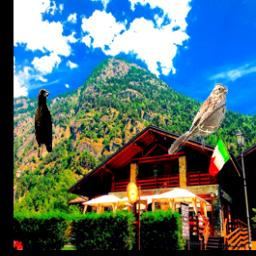Crow: (35, 90, 53, 159)
Sparrow: (168, 84, 228, 155)
